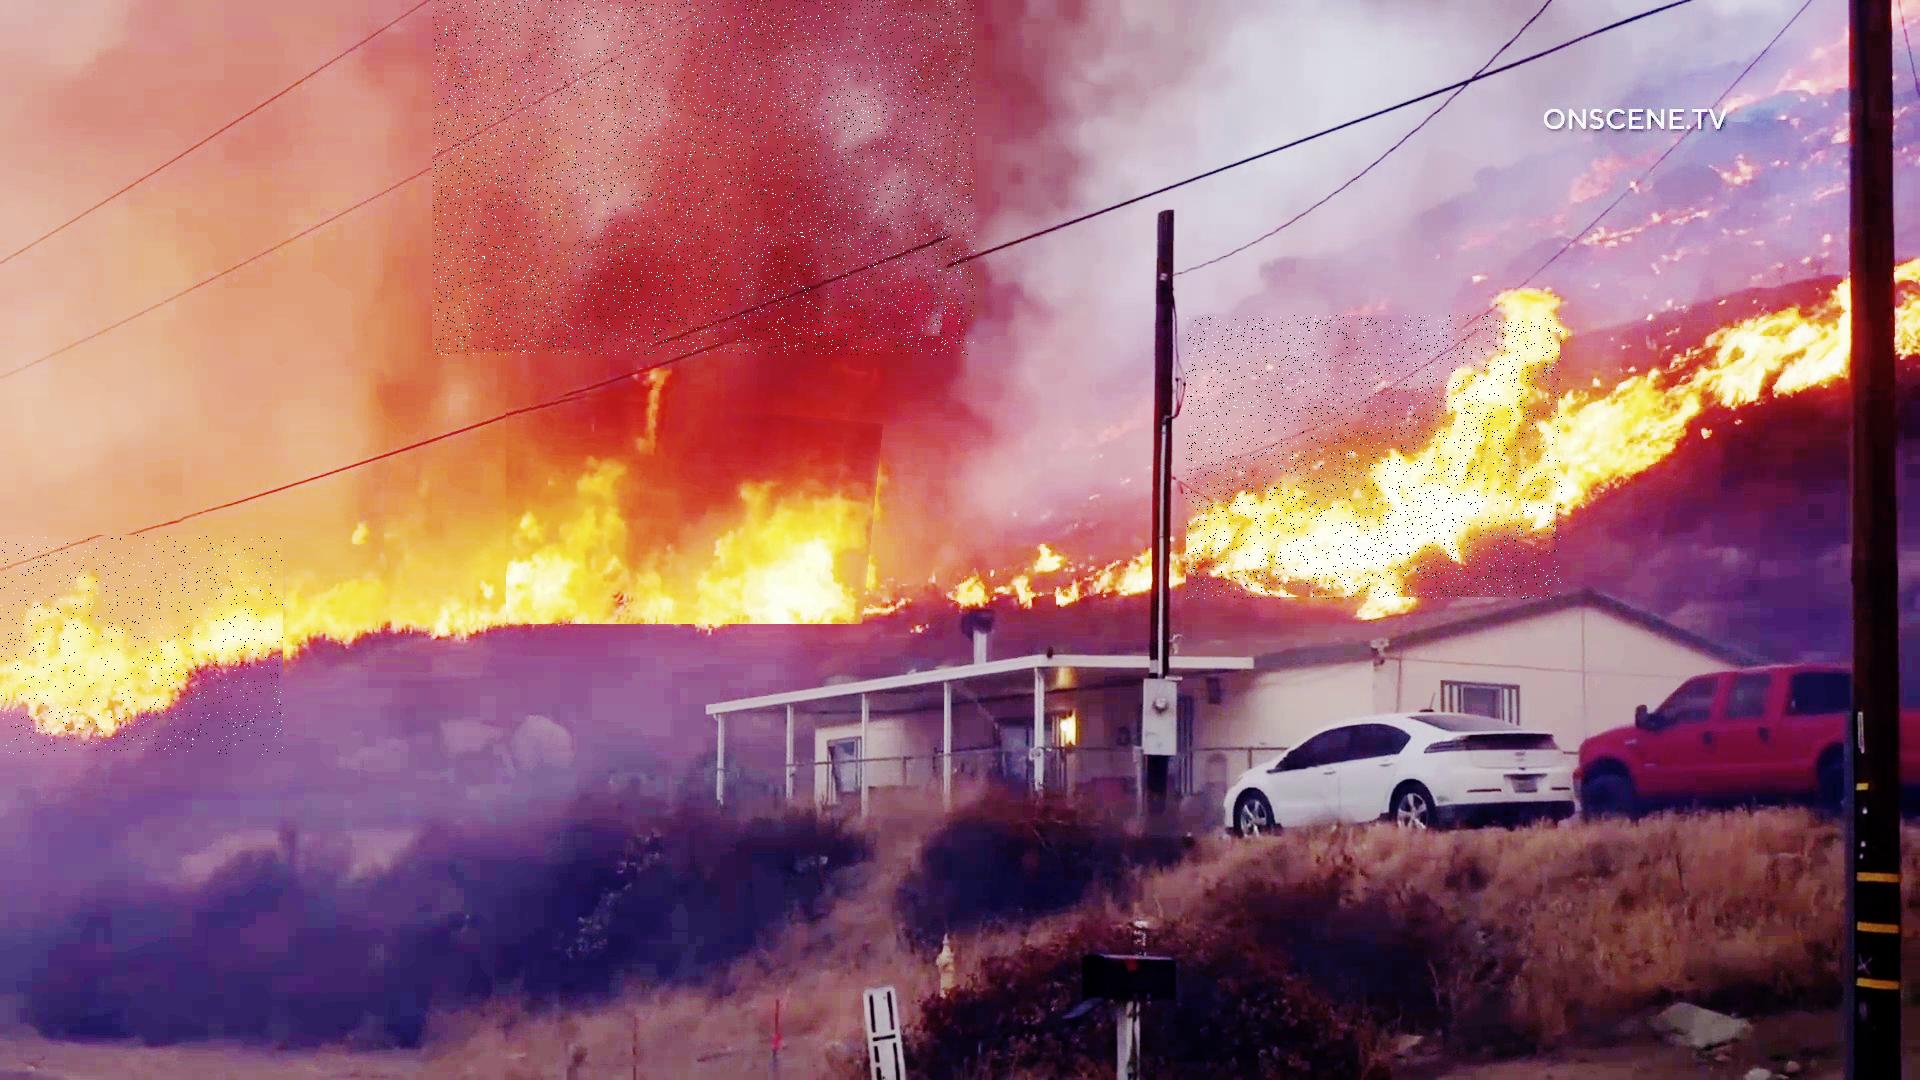fire: (433, 0, 975, 355), (1187, 316, 1563, 600), (506, 390, 886, 625), (0, 535, 284, 756)
